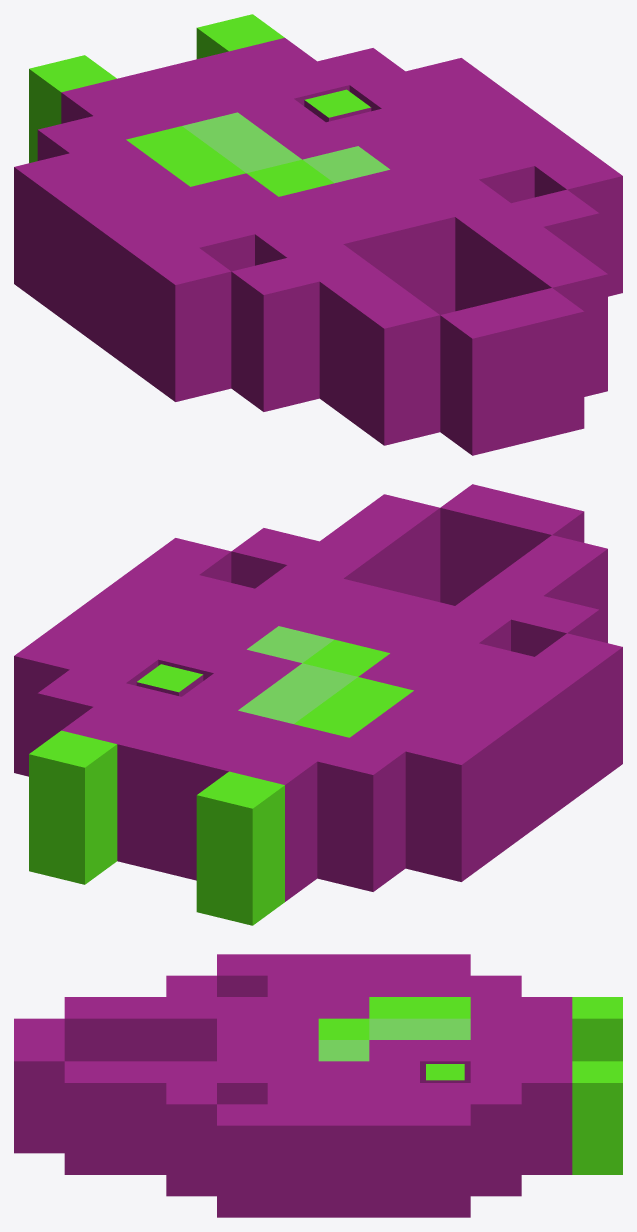
The model's file is Modelos_space_invaders2.fbx.
3 views of the same model, one above another, from view 1: azimuth 30°, elevation 25°; view 2: azimuth 150°, elevation 25°; view 3: azimuth 270°, elevation 25° (orthographic). The views are drawn at different scales.
Visible parts, largest first — view 1: Plane.011; view 2: Plane.011; view 3: Plane.011.
Part boxes in pixels (left/top/right/bottom): Plane.011: left=14, top=14, right=622, bottom=455; Plane.011: left=14, top=484, right=622, bottom=925; Plane.011: left=14, top=954, right=622, bottom=1217.
Size of the model in its own units: 400 by 100 by 600.
